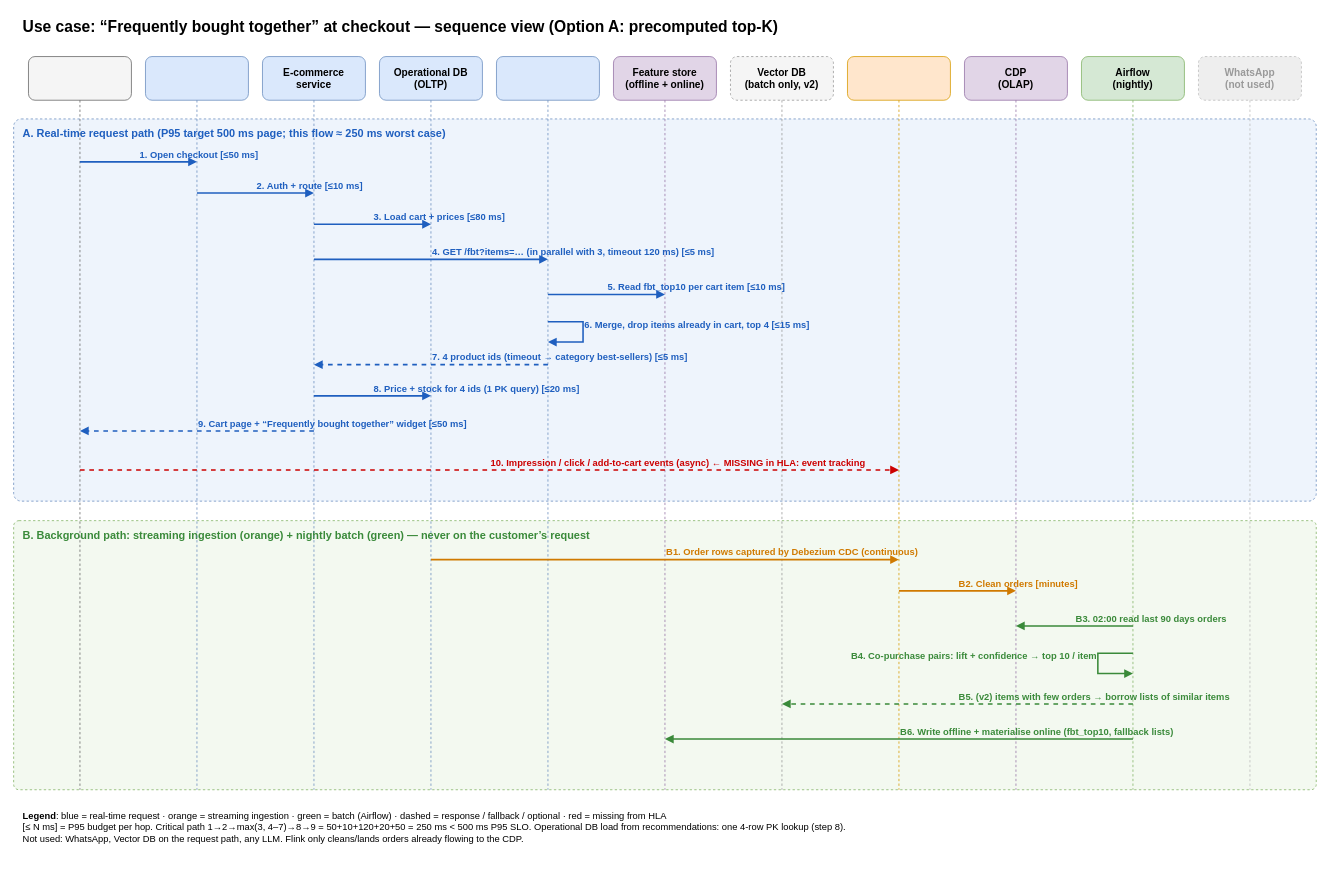
Image size: 1330x873. Some labels were removed from this diagram. Each missing label, with the box of its shape:
API Gateway: (145, 56, 248, 790)
CDC → Kafka → Flink: (847, 56, 950, 790)
Customer (Web / App): (28, 56, 131, 790)
Recommendation engine: (496, 56, 599, 790)
